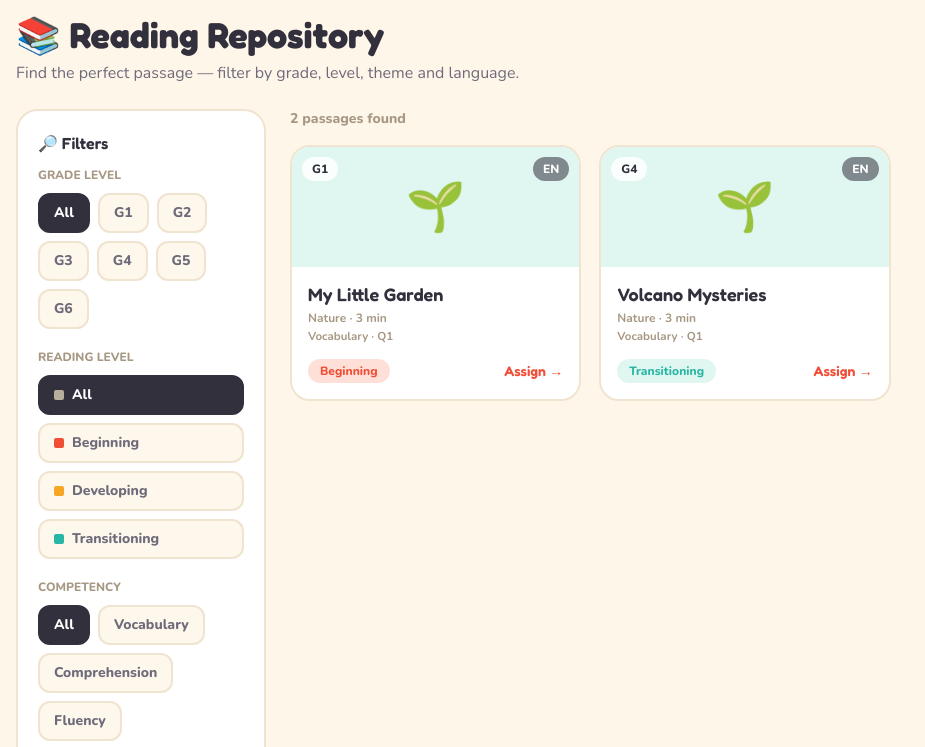
Test: RepositoryView › shows the empty state when no passage matches
Click the button "G6": coordinates (63, 309) [38,289,89,329]
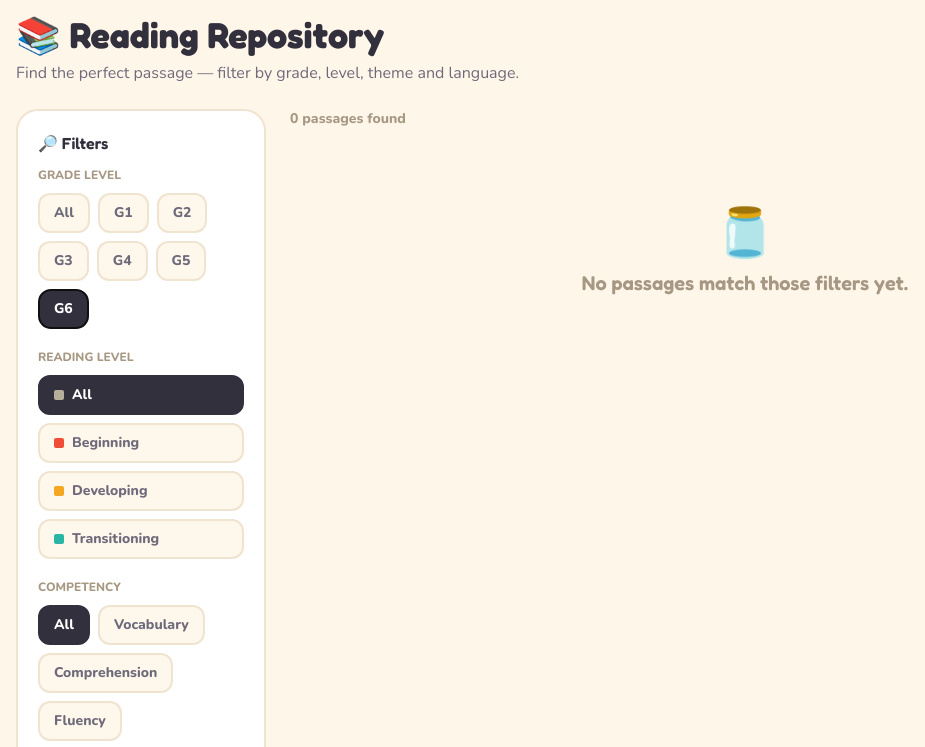
Now the text "No passages match those filters yet." is shown, box [582,271,908,295]
